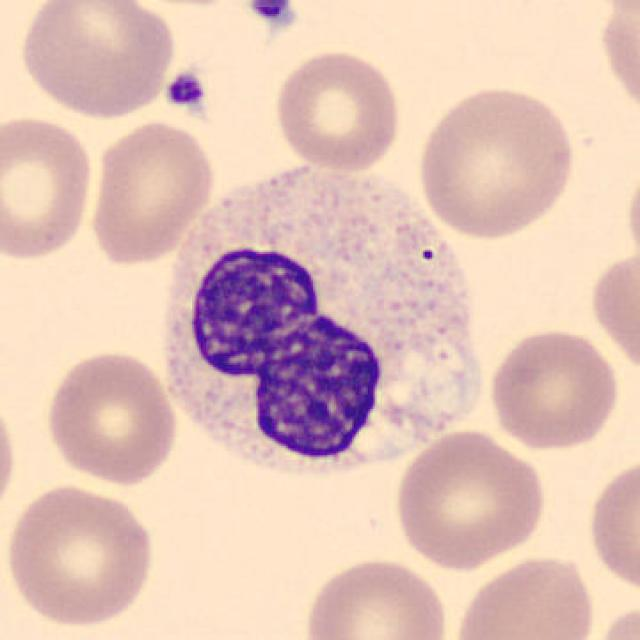Neutrophil: (151, 152, 498, 499)
Platelets: (162, 69, 210, 113), (247, 0, 299, 30)
RBC: (412, 81, 580, 242), (2, 480, 158, 630), (391, 427, 549, 571), (85, 116, 219, 268), (14, 0, 180, 122), (41, 346, 181, 488), (484, 325, 622, 453), (270, 46, 406, 174), (0, 110, 98, 264), (298, 553, 453, 640), (450, 552, 601, 640), (583, 452, 640, 600), (587, 243, 638, 383), (593, 0, 638, 123), (0, 384, 21, 523), (586, 597, 640, 640), (622, 153, 640, 275), (567, 0, 640, 18)
